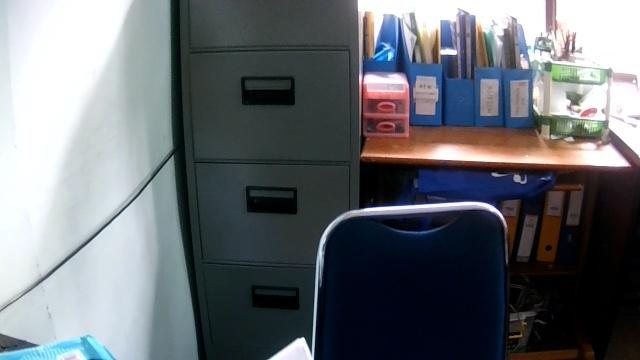Filing Cabinet: (178, 0, 361, 359)
